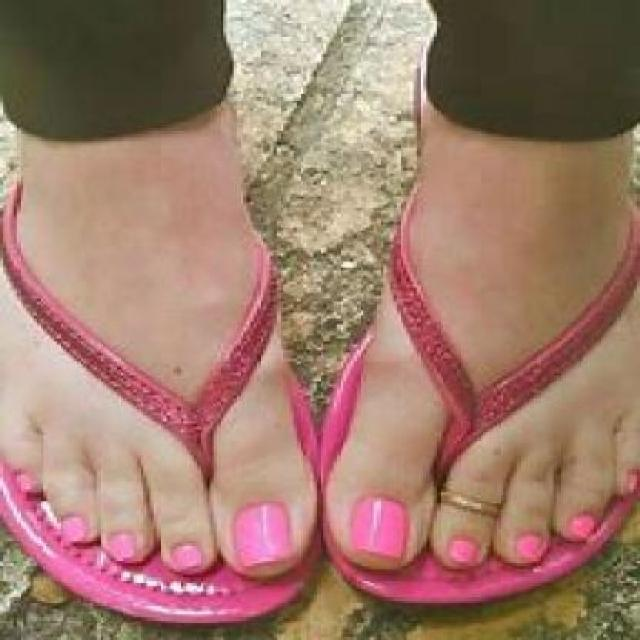No_Shoes: (327, 131, 639, 640), (3, 159, 293, 601)
